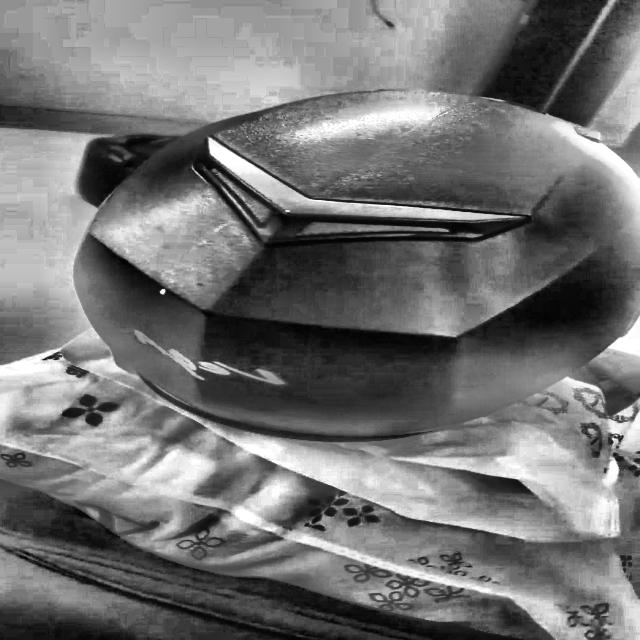Helmet: (56, 82, 640, 447)
